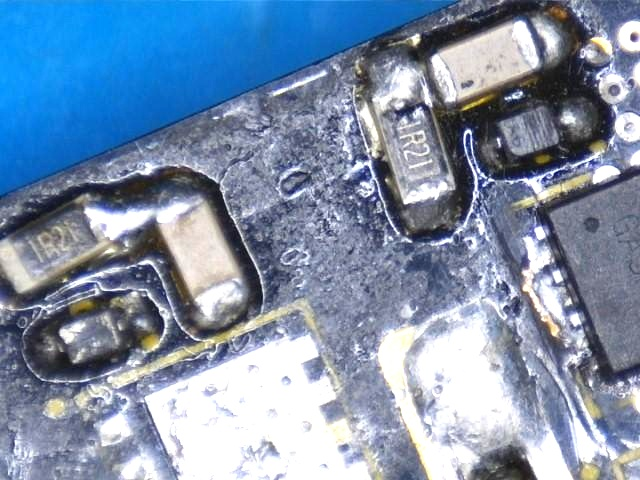pcb_defect: (379, 225, 610, 480), (82, 177, 205, 252), (363, 43, 457, 115)
